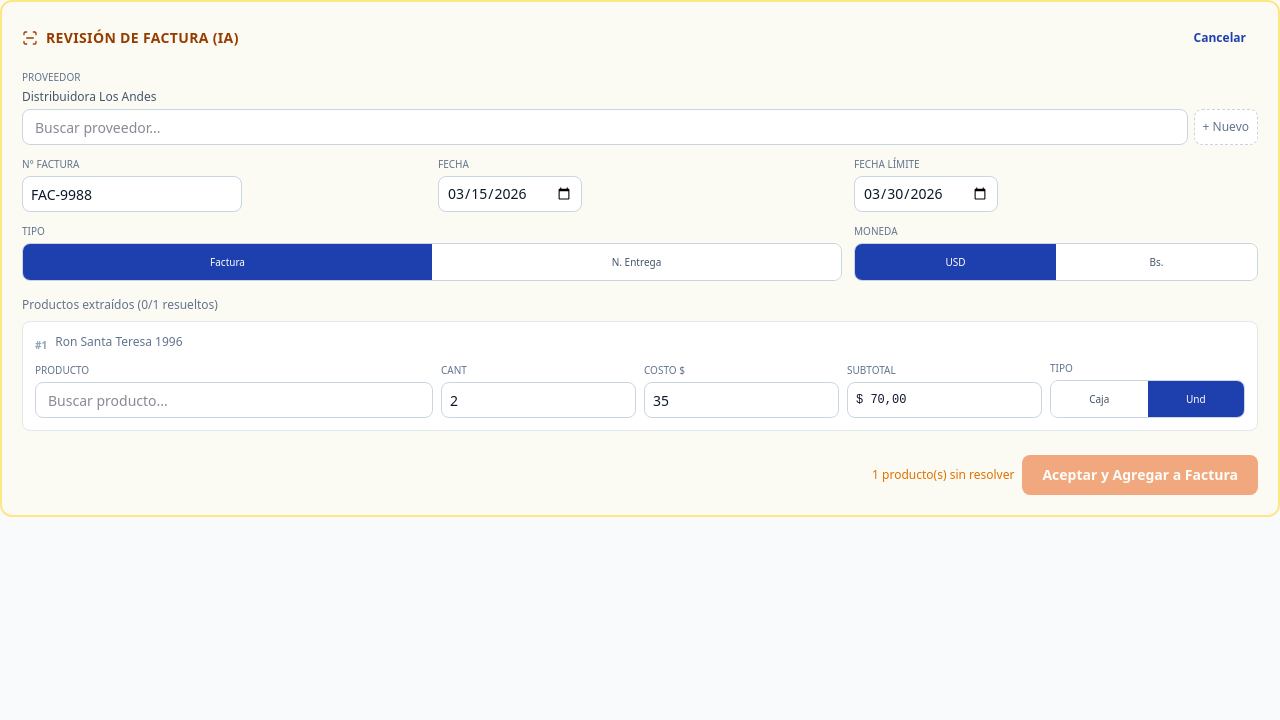
Test case: AIReviewPanel Integration › opens create supplier and create product modals when requested
The width and height of the screenshot is (1280, 720).
# Click "+ Nuevo" to open supplier modal
Click the button "+ Nuevo". click: (1226, 127)
box: [1194,109,1258,145]
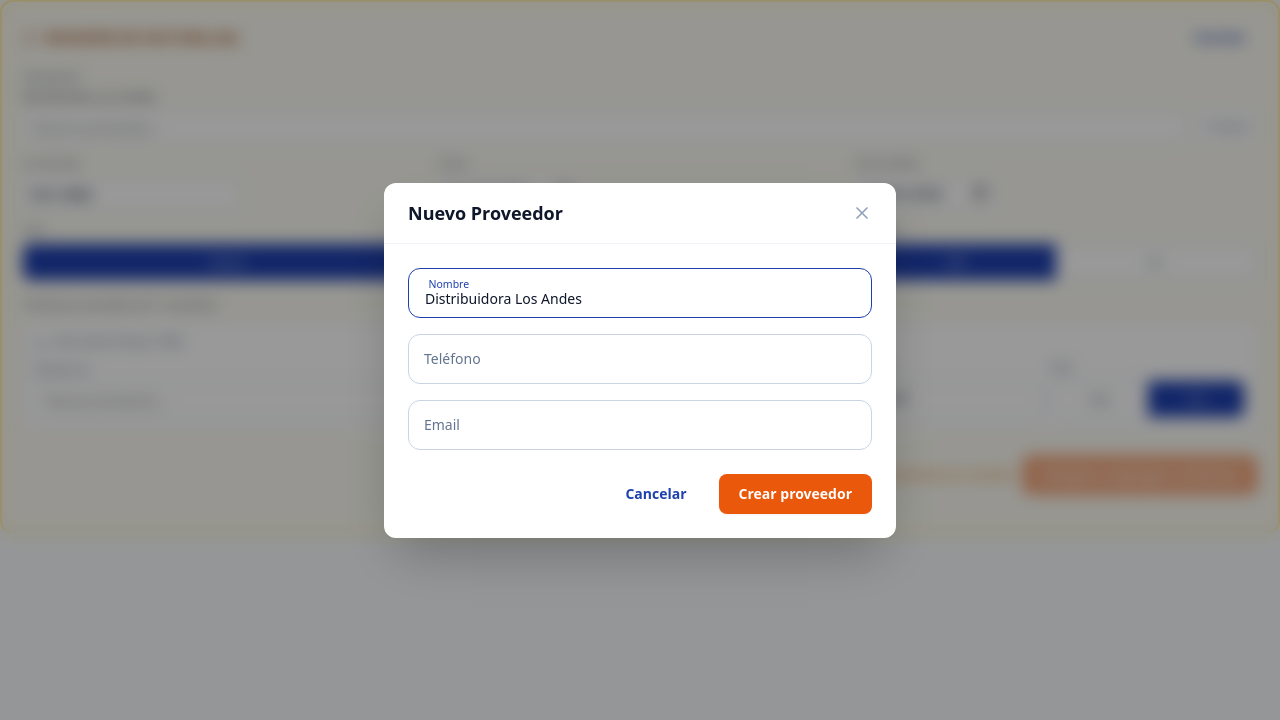
Now the heading "Nuevo Proveedor" is shown, box [408,198,563,226]
